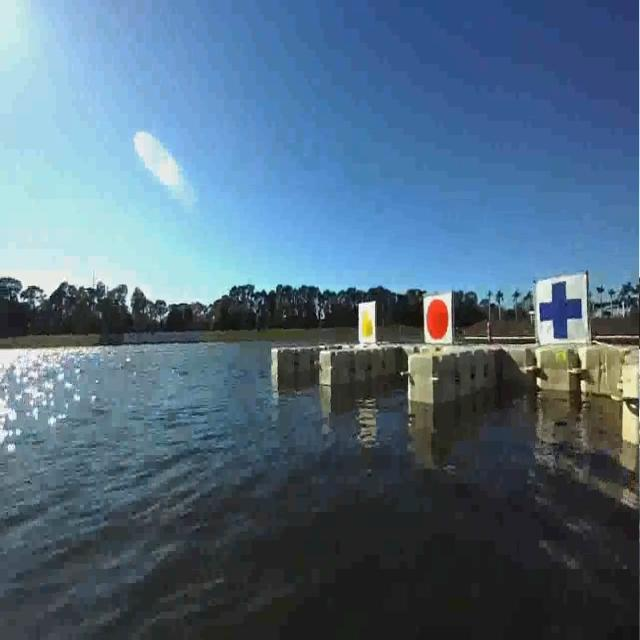blue-cross: (536, 271, 592, 340)
red-dot: (424, 290, 452, 344)
yellow-duck: (356, 300, 377, 344)
